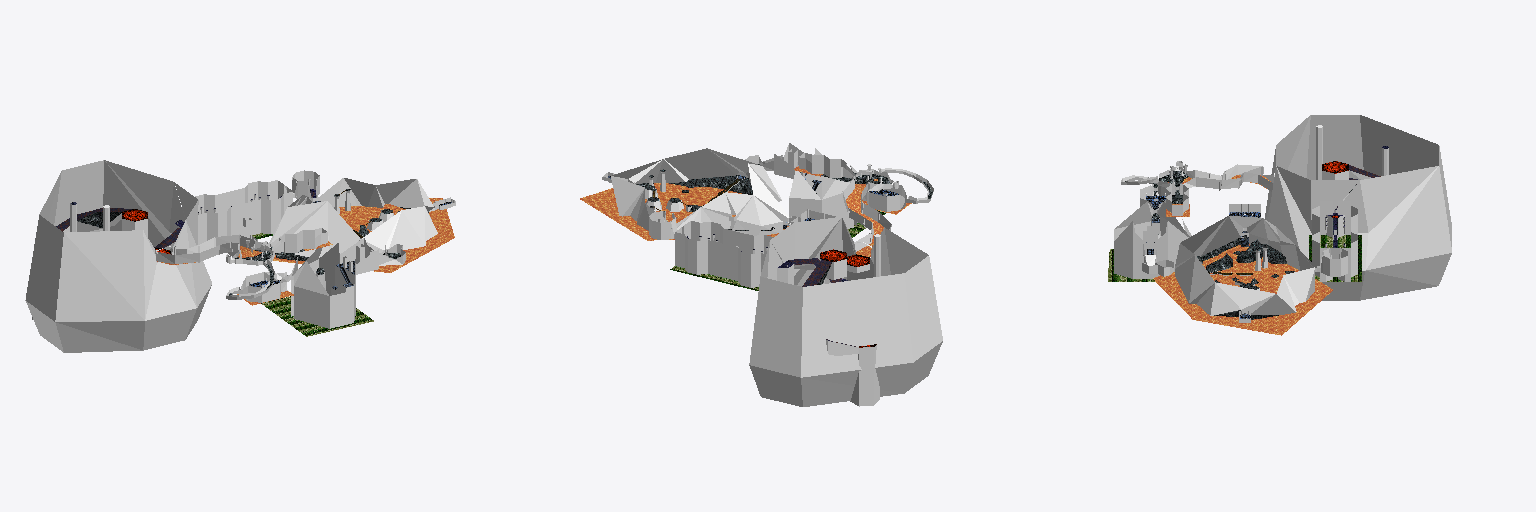
3 views of the same model, side by side, from view 1: azimuth 30°, elevation 25°; view 2: azimuth 150°, elevation 25°; view 3: azimuth 270°, elevation 25° (orthographic).
Visible parts, largest first — view 1: FireFloor#Collision, FireFloor#Collision#Lava, FireFloor#Collision#Void, FireFloor#Collision#Ice, FireFloor#Collision#Stone; view 2: FireFloor#Collision, FireFloor#Collision#Lava, FireFloor#Collision#Stone, FireFloor#Collision#Ice, FireFloor#Collision#Void; view 3: FireFloor#Collision, FireFloor#Collision#Lava, FireFloor#Collision#Stone, FireFloor#Collision#Void.
Boxes of the visible parts, <box> form: FireFloor#Collision: <box>25,160,455,352</box>; FireFloor#Collision#Lava: <box>157,198,454,272</box>; FireFloor#Collision#Void: <box>237,233,373,336</box>; FireFloor#Collision#Ice: <box>56,208,184,254</box>; FireFloor#Collision#Stone: <box>71,189,451,295</box>; FireFloor#Collision: <box>602,143,942,406</box>; FireFloor#Collision#Lava: <box>580,166,883,256</box>; FireFloor#Collision#Stone: <box>608,164,932,281</box>; FireFloor#Collision#Ice: <box>778,249,876,347</box>; FireFloor#Collision#Void: <box>670,200,911,290</box>; FireFloor#Collision: <box>1114,115,1451,322</box>; FireFloor#Collision#Lava: <box>1153,175,1332,335</box>; FireFloor#Collision#Stone: <box>1125,146,1388,319</box>; FireFloor#Collision#Void: <box>1108,235,1361,281</box>.
Size of the model in its own units: 13849 by 4677 by 10997.
61 materials, 26 textured.